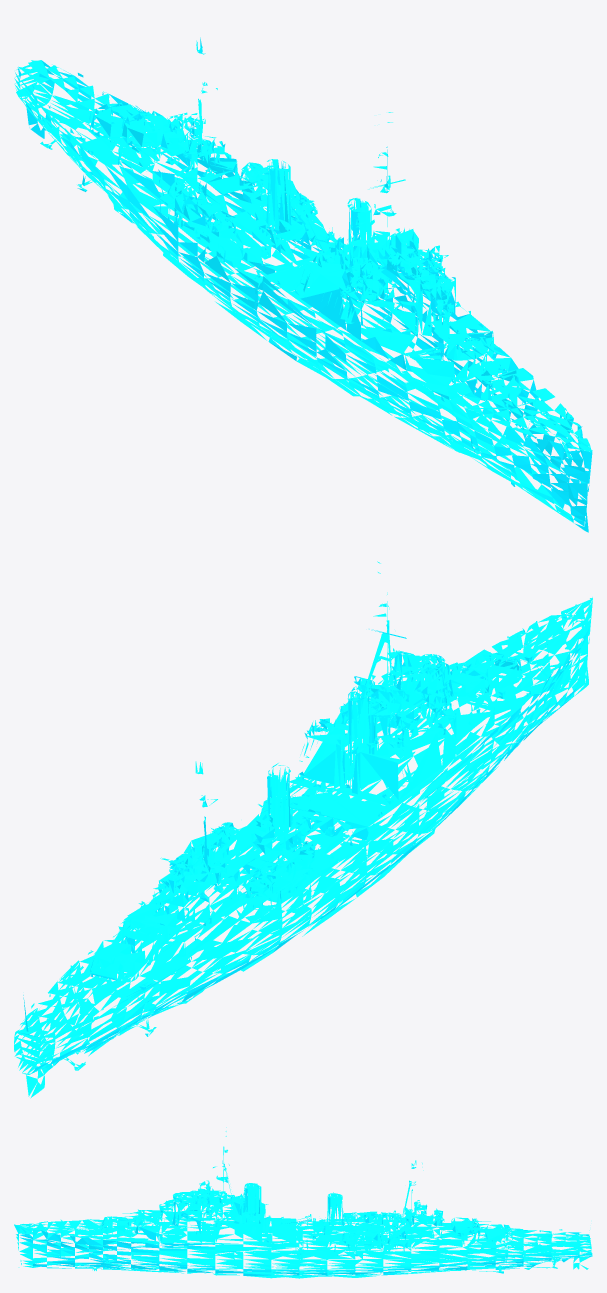
Rendered from Gambia.glb.
3 views of the same model, one above another, from view 1: azimuth 30°, elevation 25°; view 2: azimuth 150°, elevation 25°; view 3: azimuth 270°, elevation 25° (orthographic). The views are drawn at different scales.
Bounding box in the file's own units: 1.36 × 3.05 × 11.29.
